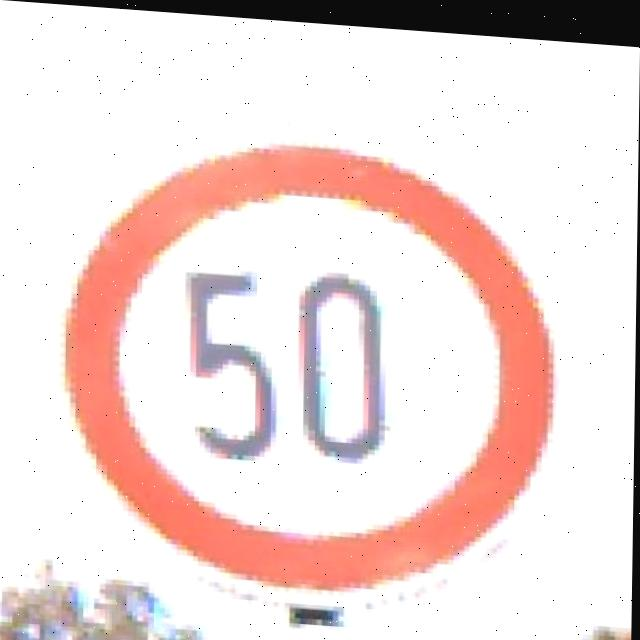Speed limit 50: (59, 122, 563, 608)
